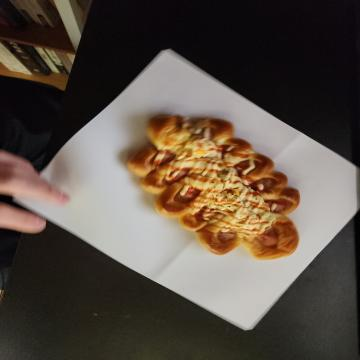pizza_bread: (114, 62, 261, 232)
